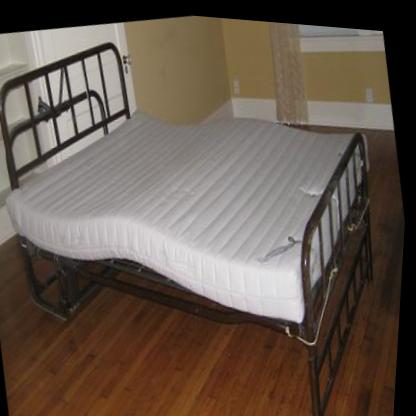Bed: (0, 39, 375, 416)
Wooden floor: (13, 285, 318, 416)
